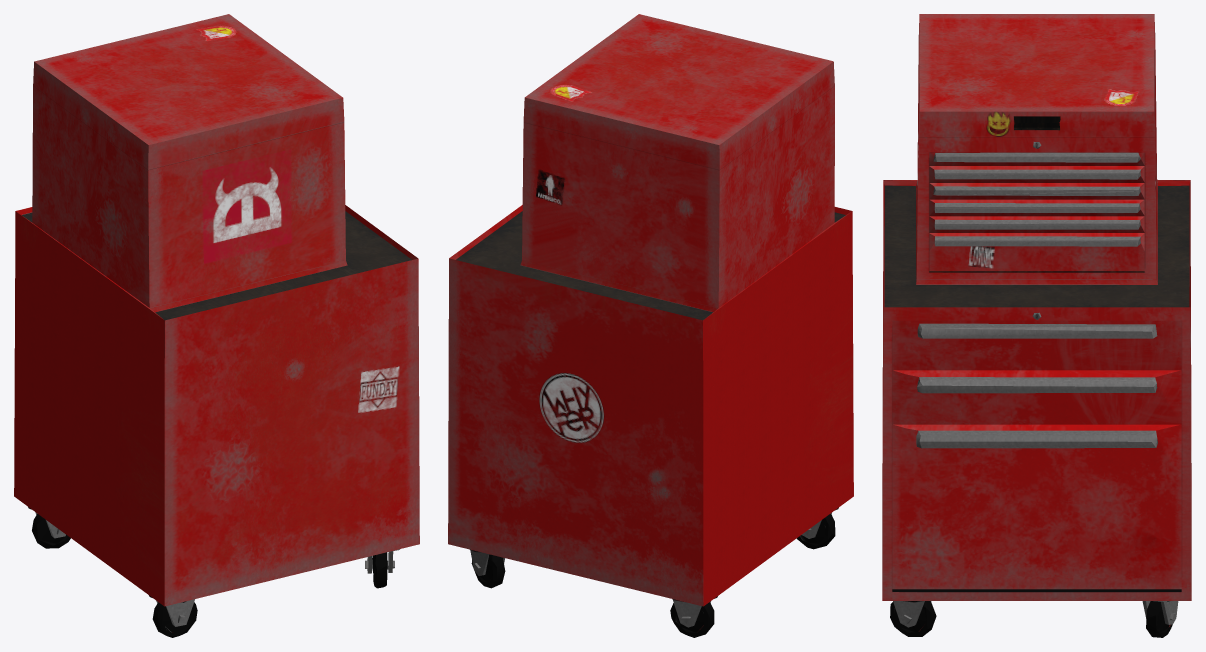
File: Big tool box.fbx
3 views of the same model, side by side, from view 1: azimuth 30°, elevation 25°; view 2: azimuth 150°, elevation 25°; view 3: azimuth 270°, elevation 25° (orthographic). The views are drawn at different scales.
Visible parts, largest first — view 1: Cube.001; view 2: Cube.001; view 3: Cube.001.
Boxes of the visible parts, box(x1,y1,x2,y2) form: Cube.001: box(14, 14, 419, 637); Cube.001: box(448, 14, 853, 637); Cube.001: box(882, 14, 1191, 637).
Bounding box in the file's own units: 78.09 × 141 × 77.57.
Materials: 1 (1 with a texture image).
